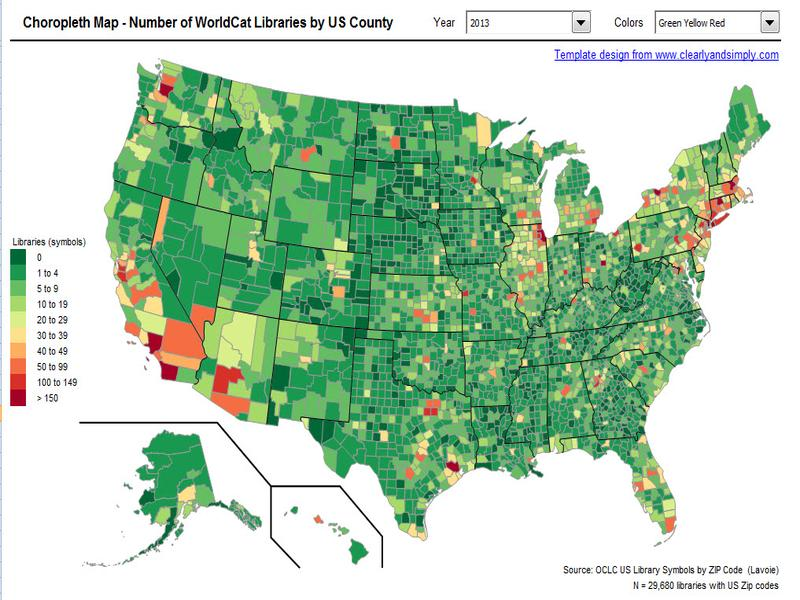legend: (9, 237, 88, 409)
